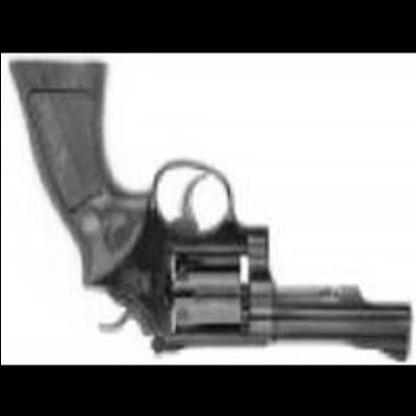weapon: (9, 59, 416, 362)
